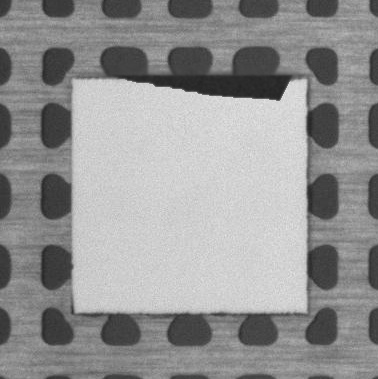DIE_BROKEN: (114, 69, 294, 102)
